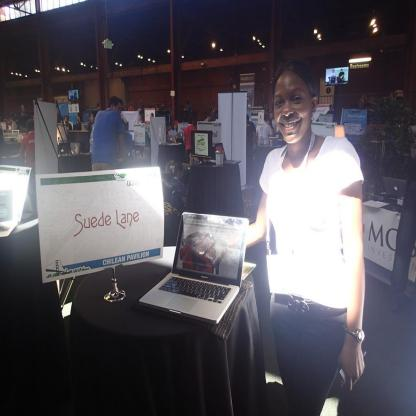board: (137, 209, 243, 328), (0, 189, 16, 239), (381, 178, 408, 198), (166, 135, 177, 142), (128, 132, 133, 142)
